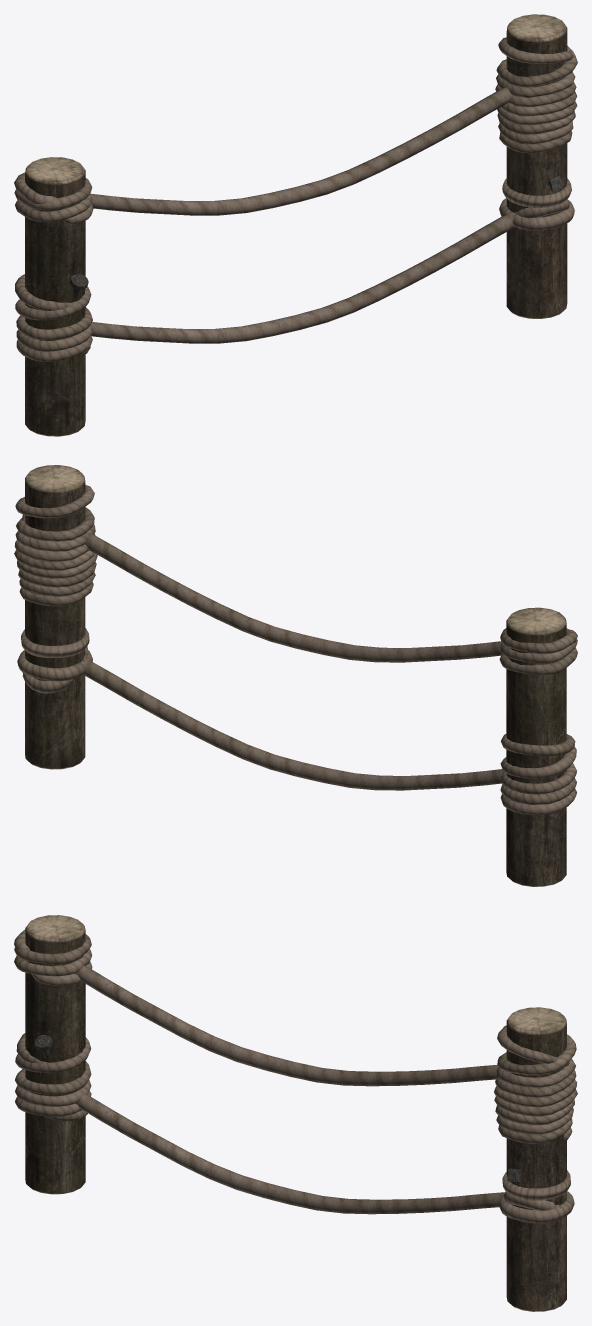
Rendered from rope_fence08.fbx.
3 renders of one model, top to bottom at view 1: azimuth 30°, elevation 25°; view 2: azimuth 150°, elevation 25°; view 3: azimuth 330°, elevation 25°, orthographic.
Visible parts, largest first — view 1: rope_fence08; view 2: rope_fence08; view 3: rope_fence08.
Boxes of the visible parts, left/top/right/bottom form: rope_fence08: left=14, top=14, right=577, bottom=436; rope_fence08: left=14, top=465, right=577, bottom=886; rope_fence08: left=14, top=915, right=577, bottom=1311.
Size of the model in its own units: 289 by 141 by 38.73.
